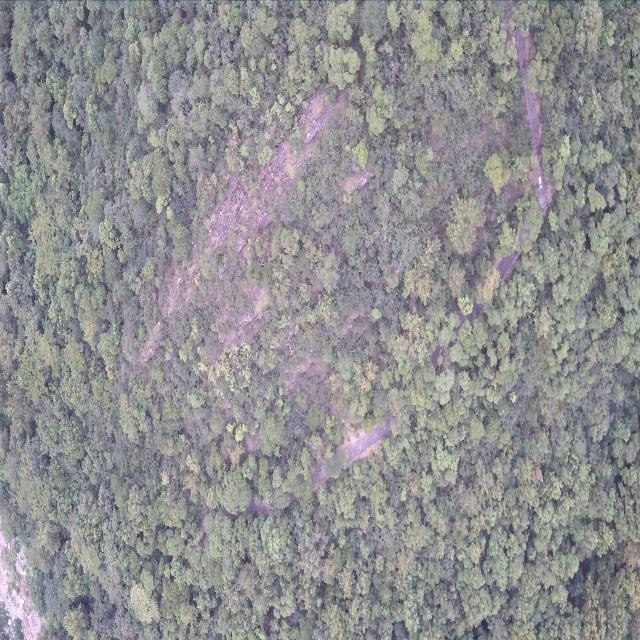UAV: (289, 348, 294, 356)
